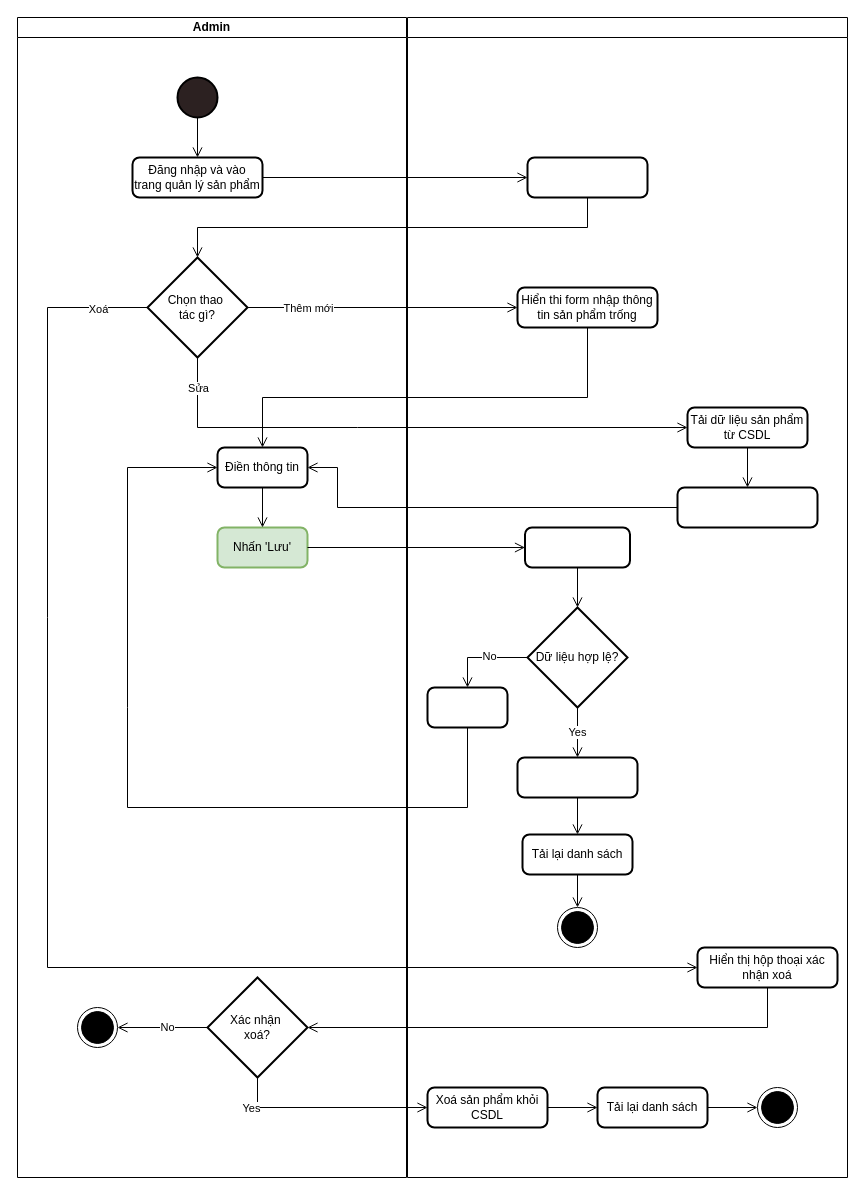
The diagram is 865 pixels wide and 1195 high, and some of its shapes have lost their labels. Here are the shapes that lost their labels. From the top down, the box of each, then its label:
(526, 156, 648, 198): Hiển thị danh sách sản phẩm
(676, 486, 818, 528): Hiển thị Form với thông tin đã được điền sẵn
(524, 526, 630, 568): Kiểm tra tính jhợp lệ của dữ liệu
(406, 16, 848, 1178): Hệ thống
(426, 686, 508, 728): Hiển thi thộng báo lỗi
(516, 756, 638, 798): Lưu thông tin sản phẩm vào CSDL
